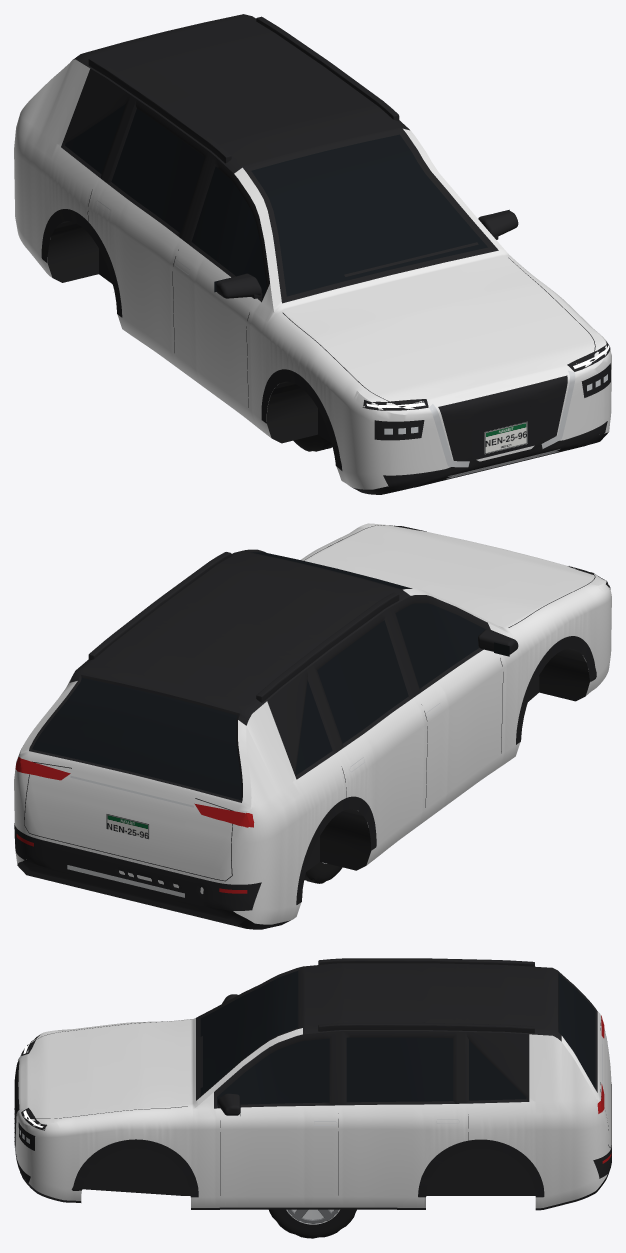
Rendered from nissan-x-trail.glb.
The picture shows the model from 3 angles, top to bottom: view 1: azimuth 30°, elevation 25°; view 2: azimuth 150°, elevation 25°; view 3: azimuth 270°, elevation 25°; orthographic projection. The views are drawn at different scales.
Visible parts, largest first — view 1: body; view 2: body, wheel; view 3: body, wheel.
Boxes of the visible parts, bbox=[...] form: body: bbox=[14, 14, 611, 494]; body: bbox=[14, 523, 611, 929]; wheel: bbox=[304, 862, 342, 883]; body: bbox=[14, 958, 611, 1210]; wheel: bbox=[269, 1209, 356, 1238].
Size of the model in its own units: 2.1 by 2.1 by 4.68.
1 material, 1 textured.
